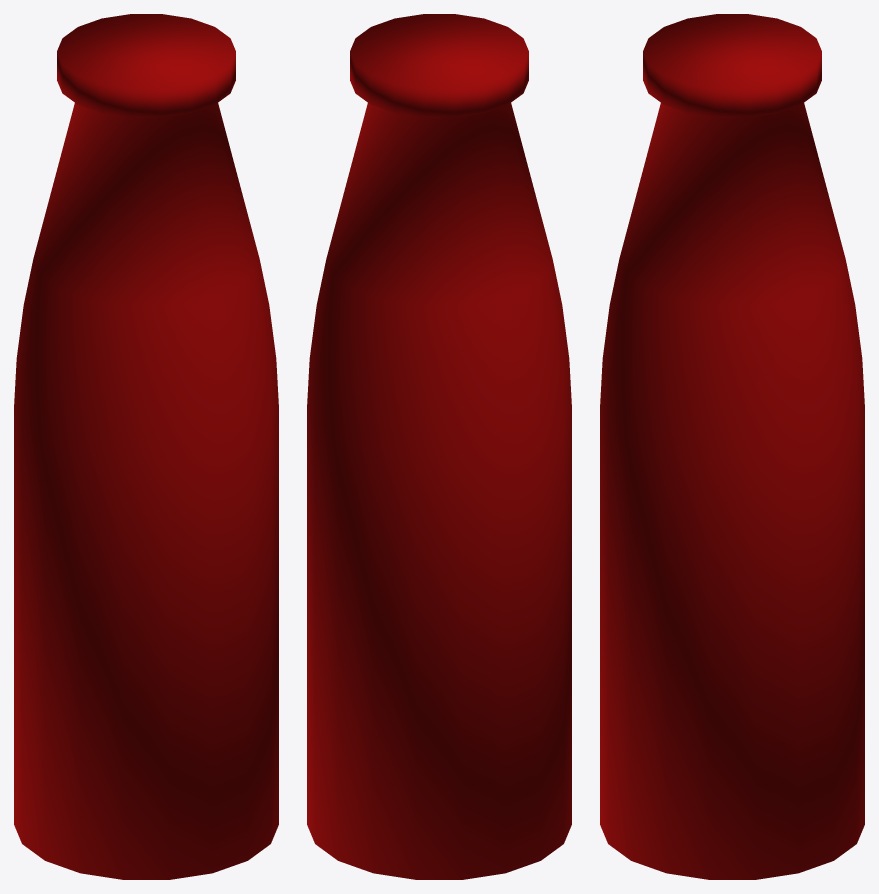
Rendered from Botol1.fbx.
3 renders of one model, left to right at view 1: azimuth 30°, elevation 25°; view 2: azimuth 150°, elevation 25°; view 3: azimuth 270°, elevation 25°, orthographic.
Visible parts, largest first — view 1: botol1; view 2: botol1; view 3: botol1.
Boxes of the visible parts, left/top/right/bottom form: botol1: left=14, top=14, right=278, bottom=879; botol1: left=307, top=14, right=571, bottom=879; botol1: left=600, top=14, right=864, bottom=879.
Size of the model in its own units: 36.12 by 118 by 36.68.
Materials: 1 (1 with a texture image).
